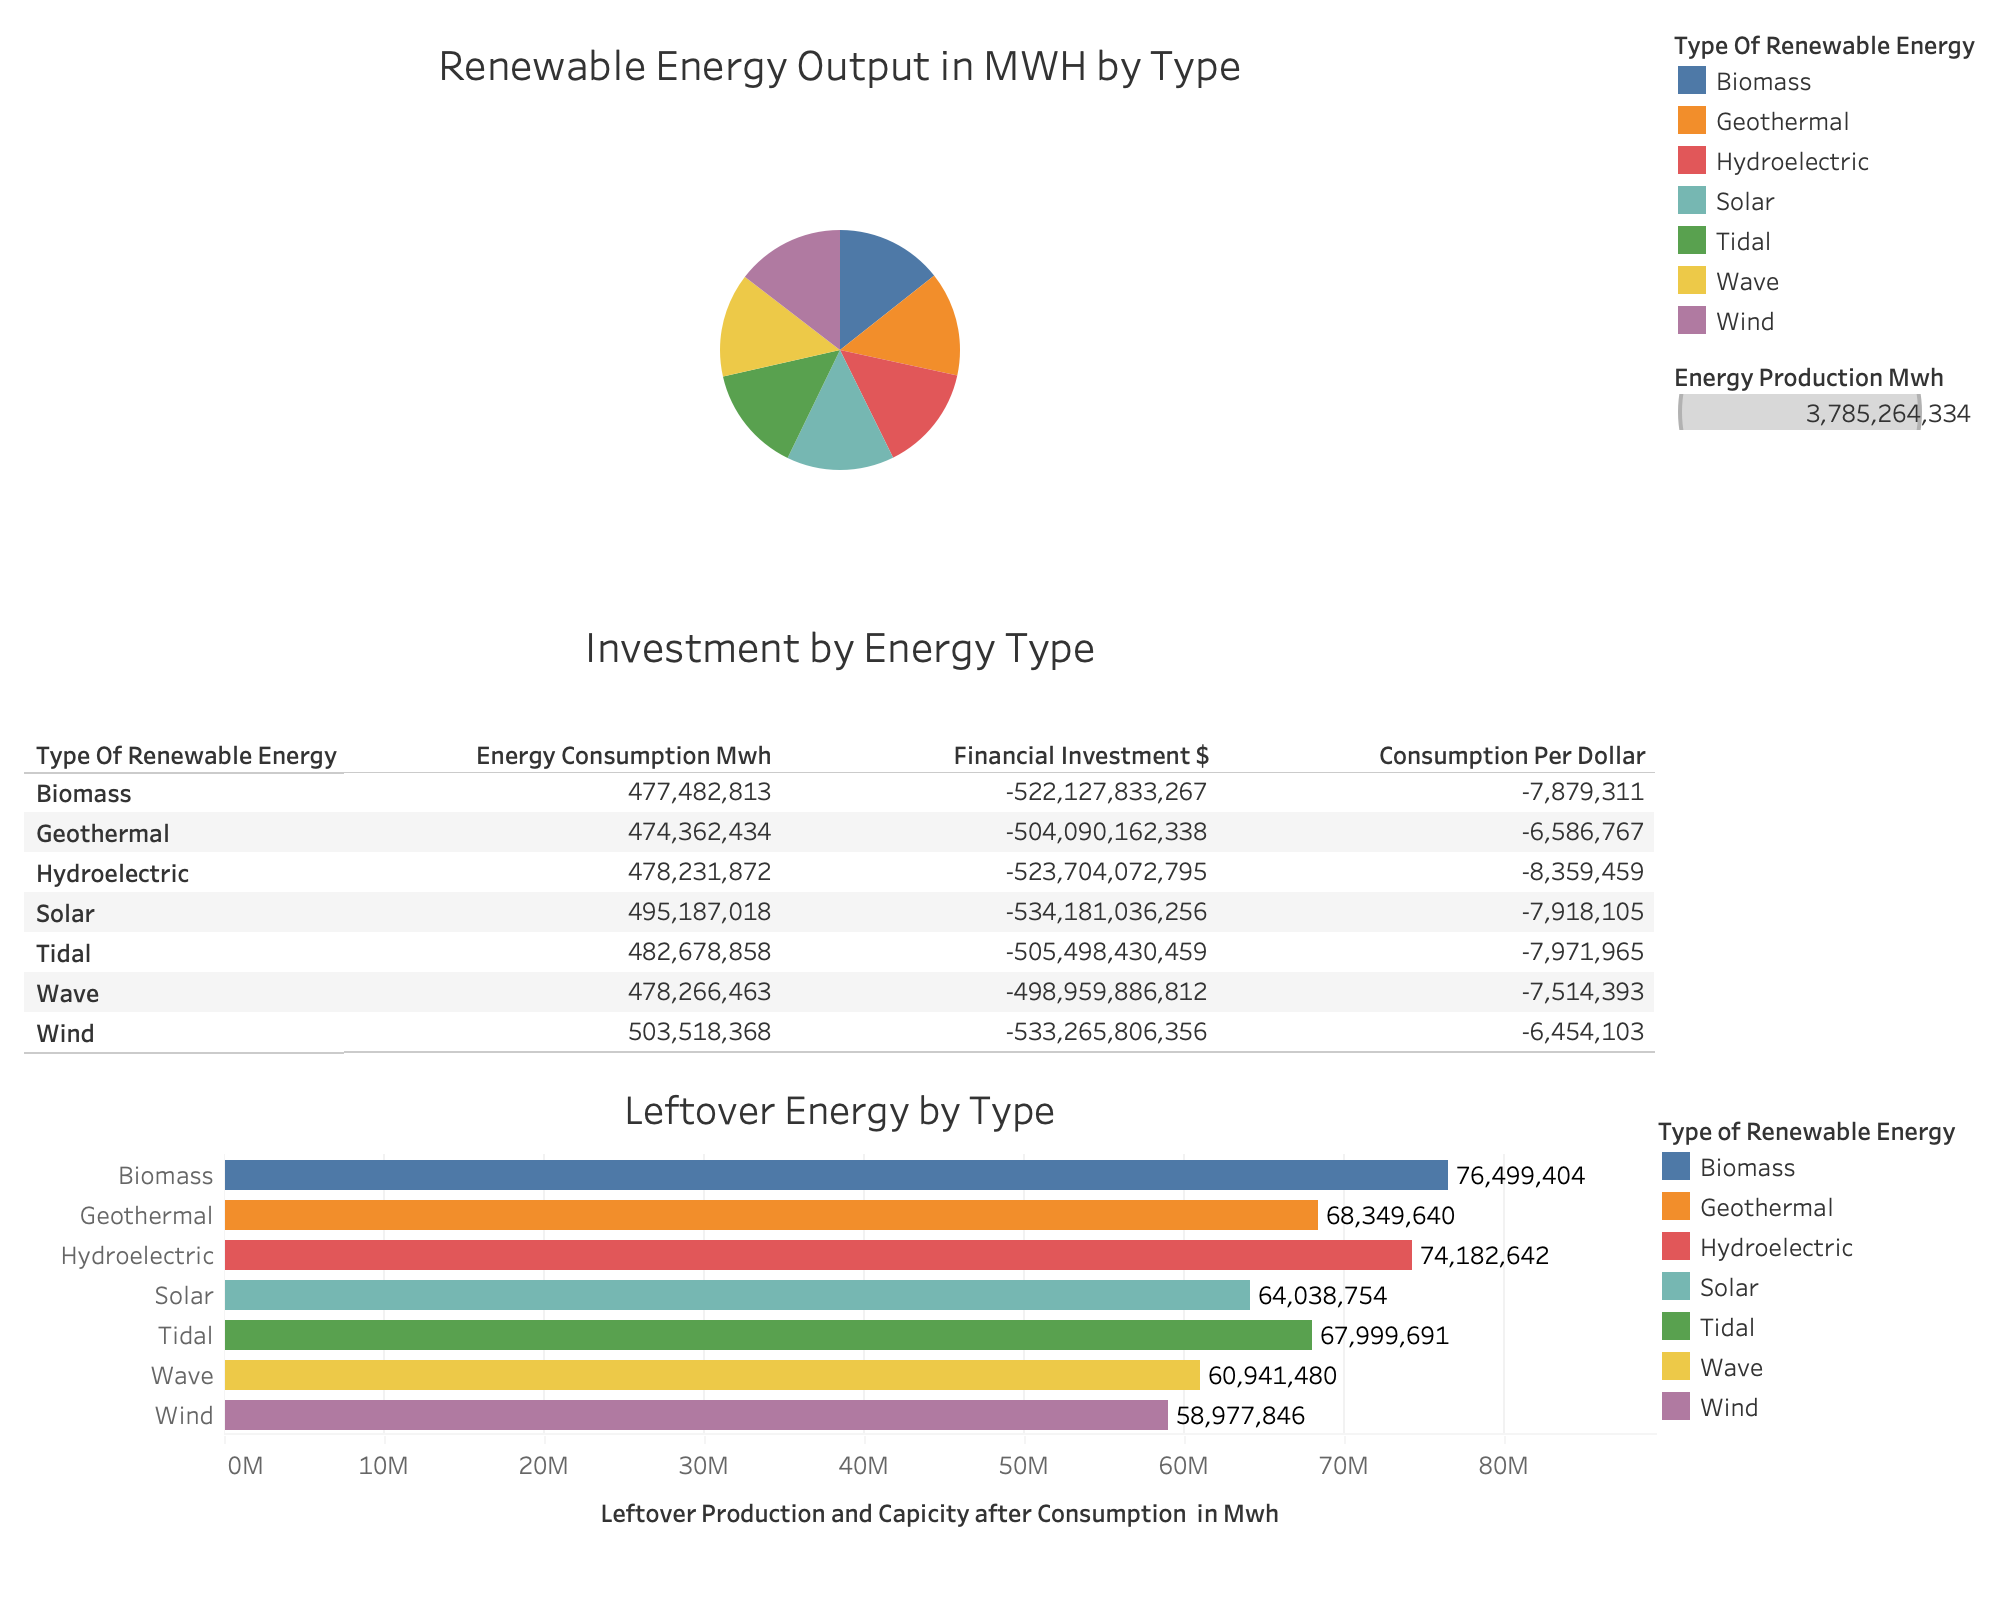

Layout of this report page (visuals, bound fields, positions):
{"tool":"tableau","page":{"name":"Dashboard 1","canvas":[1000,800],"ordinal":0},"visuals":[{"type":"worksheet","title":"Sheet 1","mark":"Pie","box":[8,8,824,291]},{"type":"legend","title":"Sheet 1","param":"[federated.1vs6ds41rzz0qz1etetuq0lb62wy].[none:type_of_renewable_energy:nk]","box":[832,8,160,166]},{"type":"legend","title":"Sheet 1","param":"[federated.1vs6ds41rzz0qz1etetuq0lb62wy].[sum:energy_production_mwh:qk]","box":[832,174,160,46]},{"type":"worksheet","title":"Sheet 2","mark":"Automatic","rows":["type_of_renewable_energy"],"box":[8,299,824,232]},{"type":"worksheet","title":"Sheet 3","mark":"Automatic","rows":["type_of_renewable_energy (Custom SQL Query)"],"cols":["production_and_capacity_vs_consumption"],"box":[8,531,824,245]},{"type":"legend","title":"Sheet 3","param":"[federated.1vs6ds41rzz0qz1etetuq0lb62wy].[none:type_of_renewable_energy (Custom ","box":[828,555,158,158]}]}

Visuals, with their boxes in screenshot pixels (x1, y1, x2, y2), scaled from the page's 1000x800 canvas onto the 2000x1600 screenshot:
"Sheet 1" worksheet (Pie marks): [16,16,1664,598]
"Sheet 1" legend: [1664,16,1984,348]
"Sheet 1" legend: [1664,348,1984,440]
"Sheet 2" worksheet: [16,598,1664,1062]
"Sheet 3" worksheet: [16,1062,1664,1552]
"Sheet 3" legend: [1656,1110,1972,1426]
